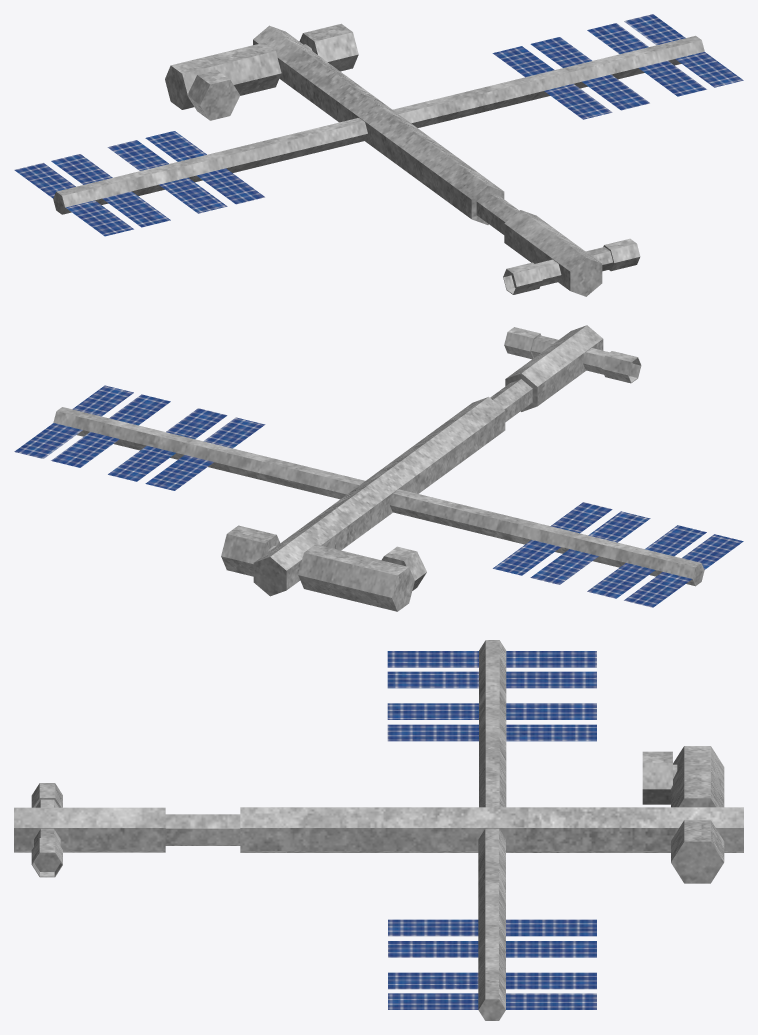
The model's file is iss.glb.
The picture shows the model from 3 angles, top to bottom: view 1: azimuth 30°, elevation 25°; view 2: azimuth 150°, elevation 25°; view 3: azimuth 270°, elevation 25°; orthographic projection. The views are drawn at different scales.
Parts seen in each view (by area): view 1: Cylinder; view 2: Cylinder; view 3: Cylinder.
Part boxes in pixels (bbox=[...]): Cylinder: bbox=[14, 14, 743, 296]; Cylinder: bbox=[14, 325, 743, 611]; Cylinder: bbox=[14, 640, 743, 1020].
Size of the model in its own units: 33.81 by 2 by 29.03.
Materials: 2 (2 with a texture image).
